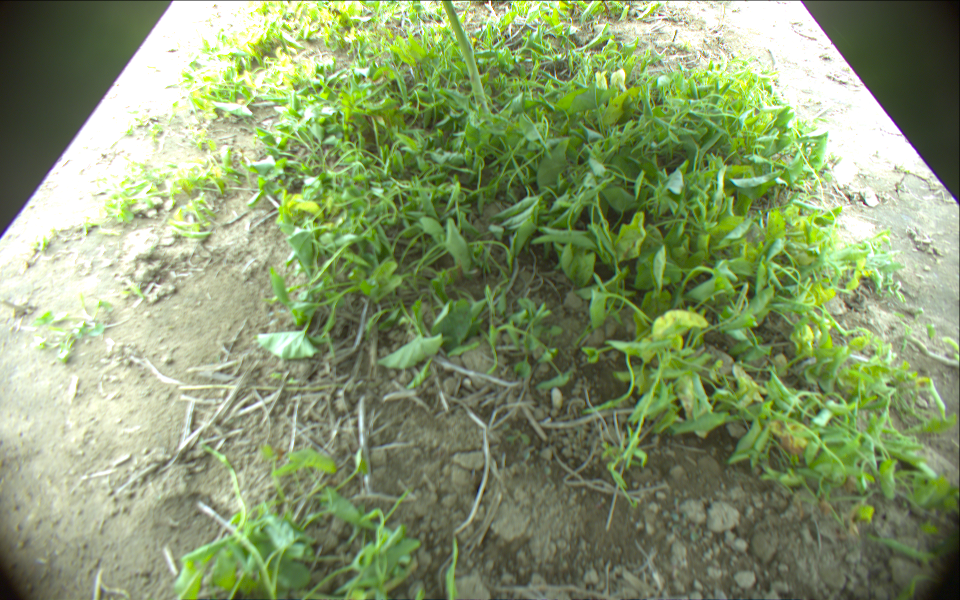aspa: (440, 1, 490, 113)
